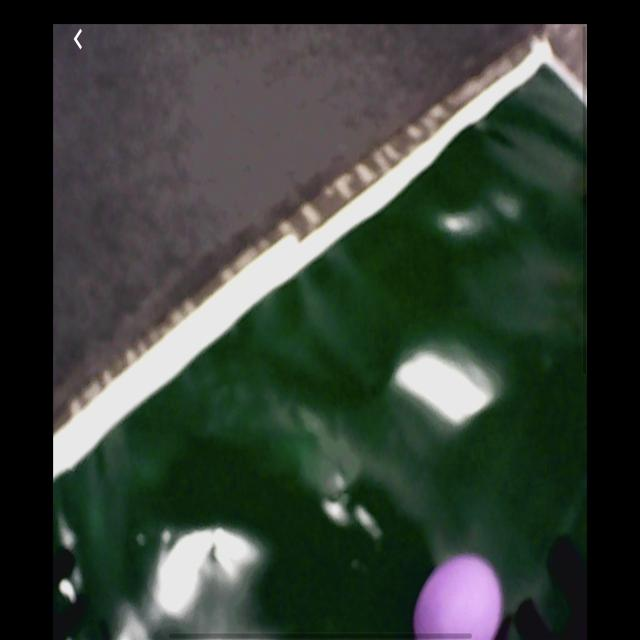ball: (415, 555, 504, 640)
